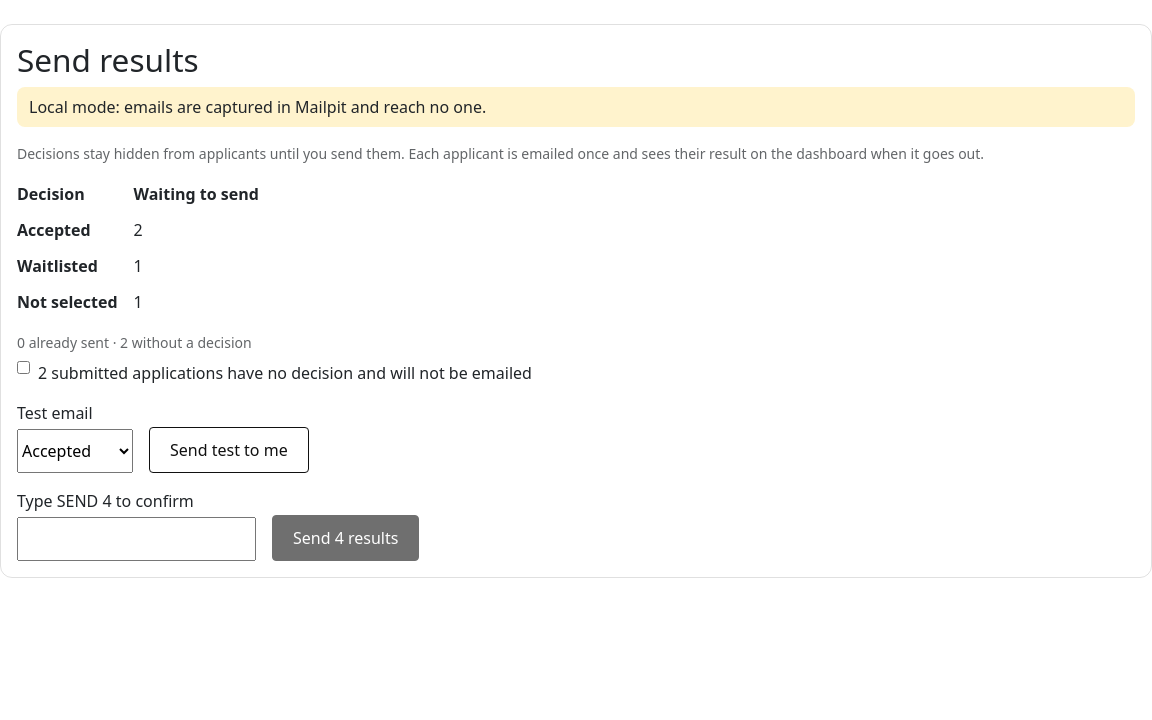
Test case: ReleaseResultsPanel › requires acknowledging applications without a decision
Type "SEND 4" into the field labelled "Type SEND 4 to confirm". click: [136, 539]
box: top-left (17, 517), bottom-right (256, 561)
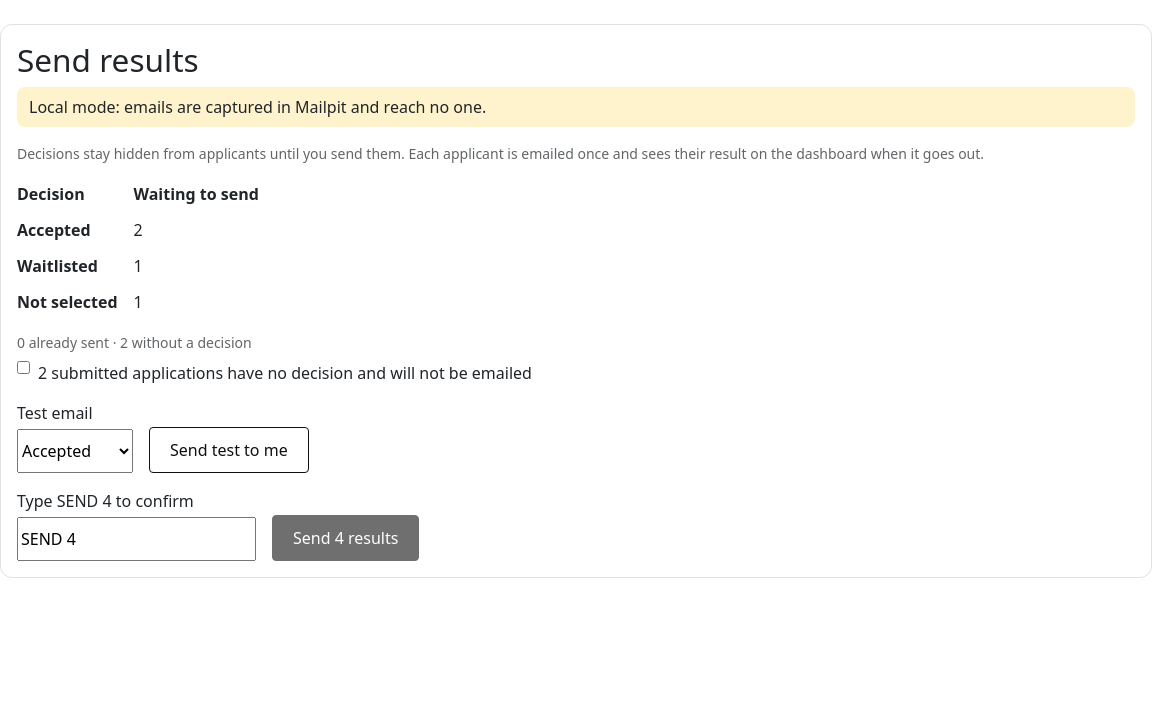
Expected: the button "Send 4 results" is disabled, top-left (272, 515), bottom-right (420, 561)
Click the checkbox labelled "no decision". click: [24, 367]
box: top-left (17, 361), bottom-right (30, 374)
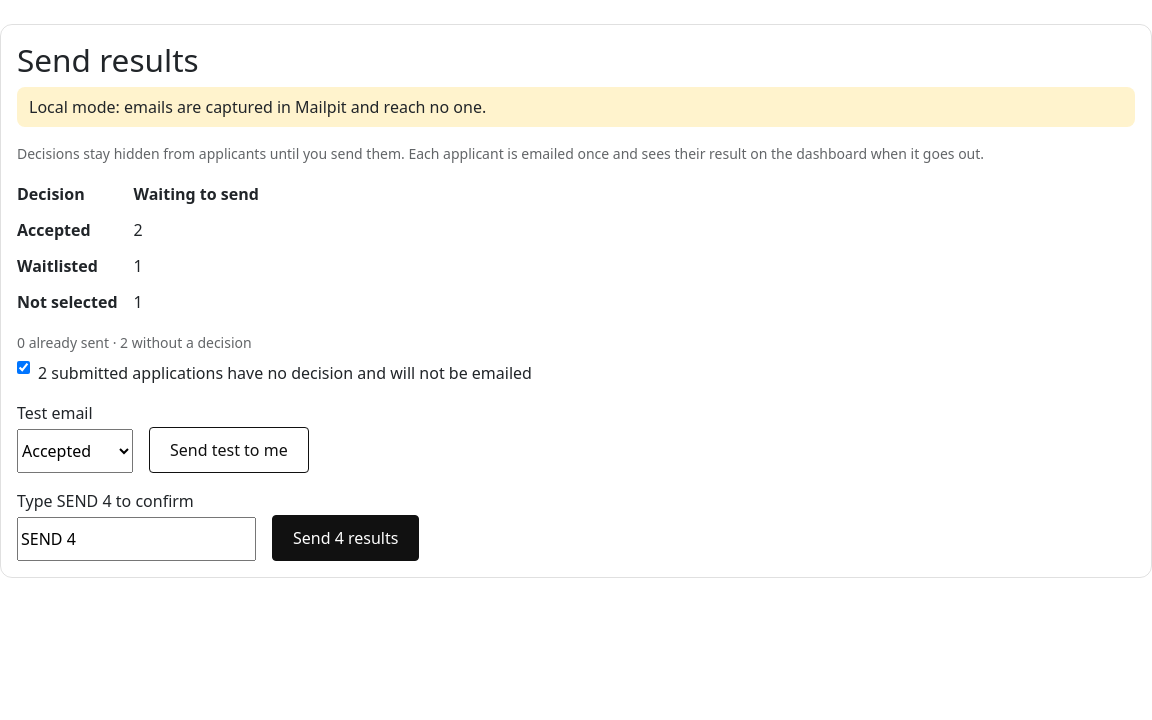
Now the button "Send 4 results" is enabled, box top-left (272, 515), bottom-right (420, 561)
